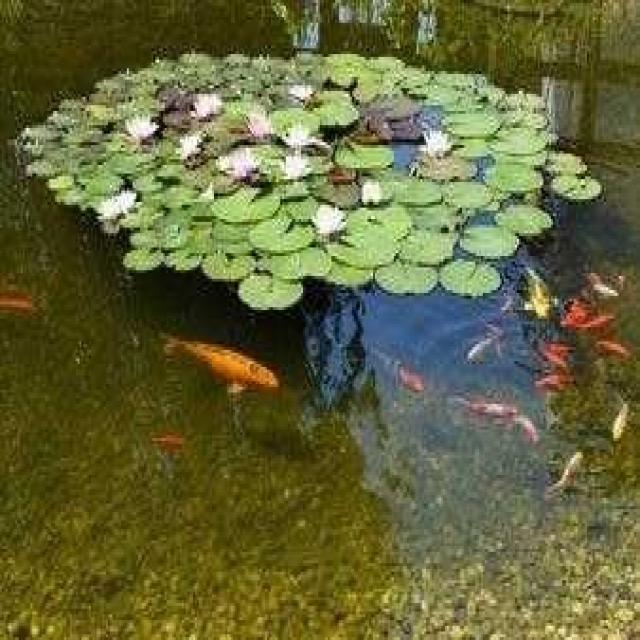Ponds: (2, 4, 640, 640)
